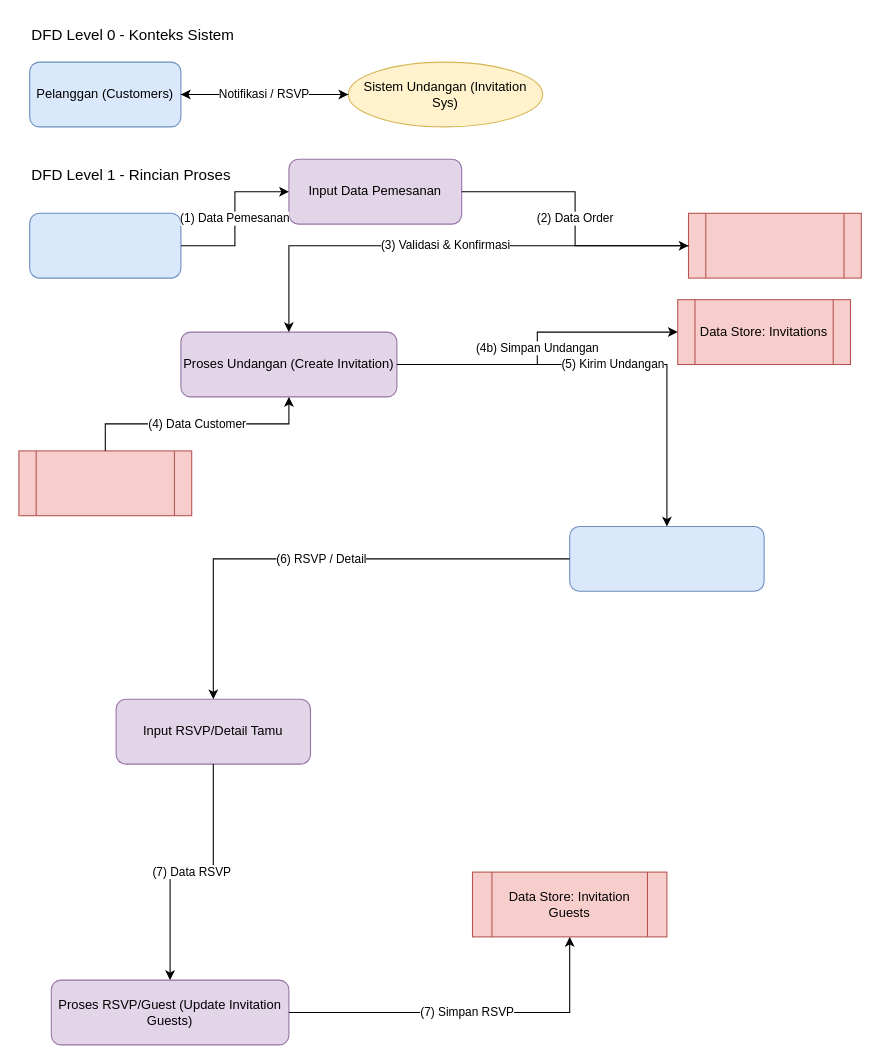
The diagram is 880 pixels wide and 1064 high, and some of its shapes have lost their labels. Each missing label, with the centre of its shape:
"Data Store: Customers" belongs at point (105, 483).
"Data Store: Orders" belongs at point (774, 245).
"Pelanggan" belongs at point (105, 245).
"Pengiriman Undangan (Pelanggan/Tamu)" belongs at point (666, 558).
